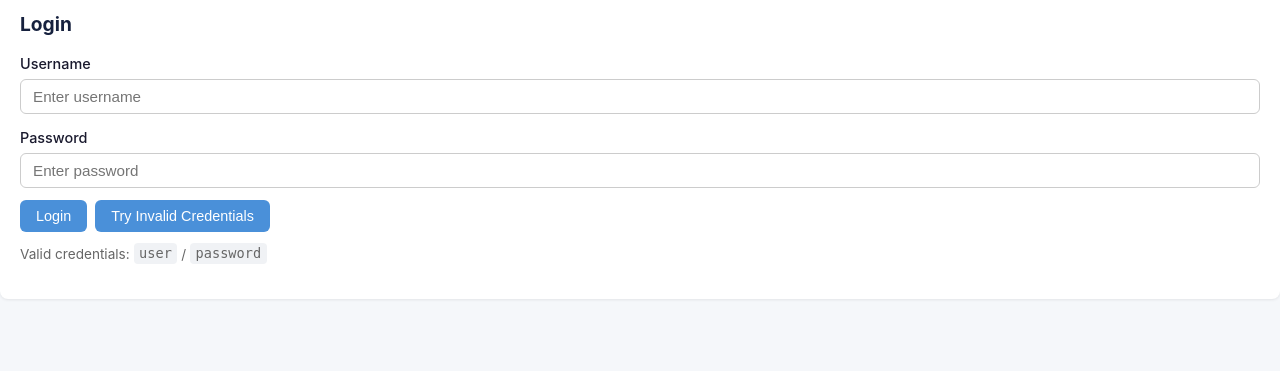
Test case: LoginForm › should display error on failed login
What coordinates should you click on to do the following:
click the button with test id "invalid-login-button"
I would click on:
 (182, 216)
Its box is top-left (95, 200), bottom-right (270, 232).
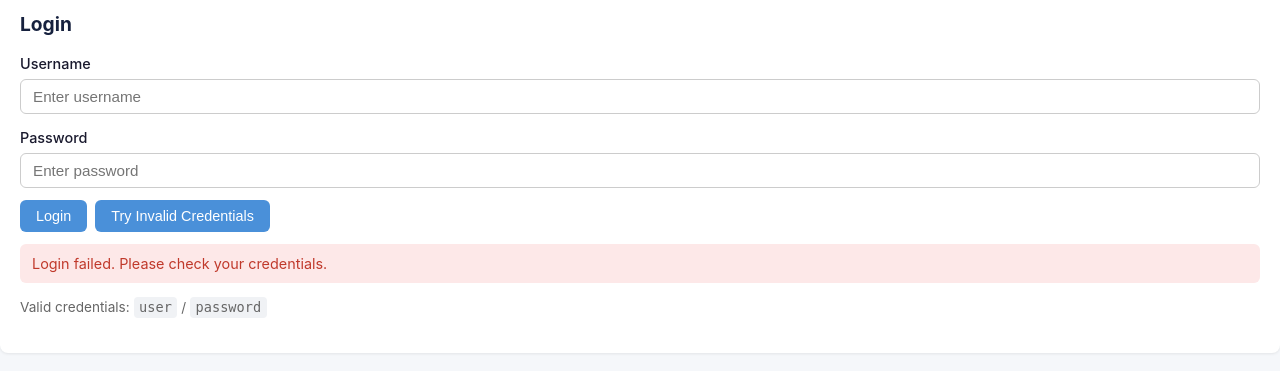
Check: the text "Login failed. Please check your credentials." is shown, box top-left (20, 244), bottom-right (1260, 283)
